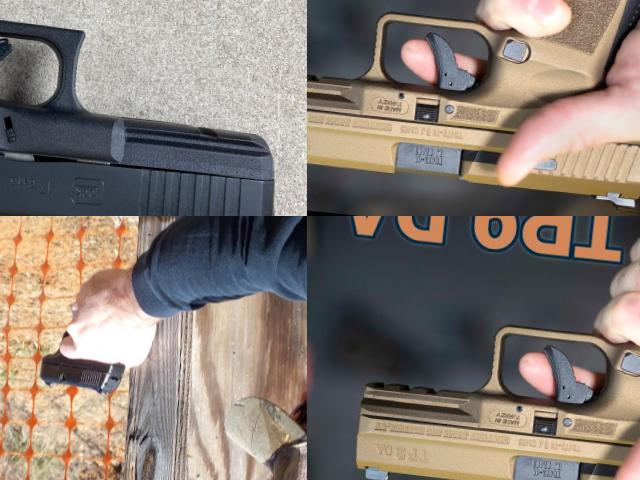handgun: (346, 216, 640, 480), (307, 0, 640, 216), (0, 0, 307, 216), (32, 326, 132, 401)
